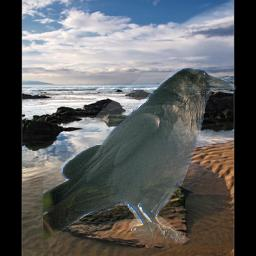Crow: (43, 66, 237, 243)
